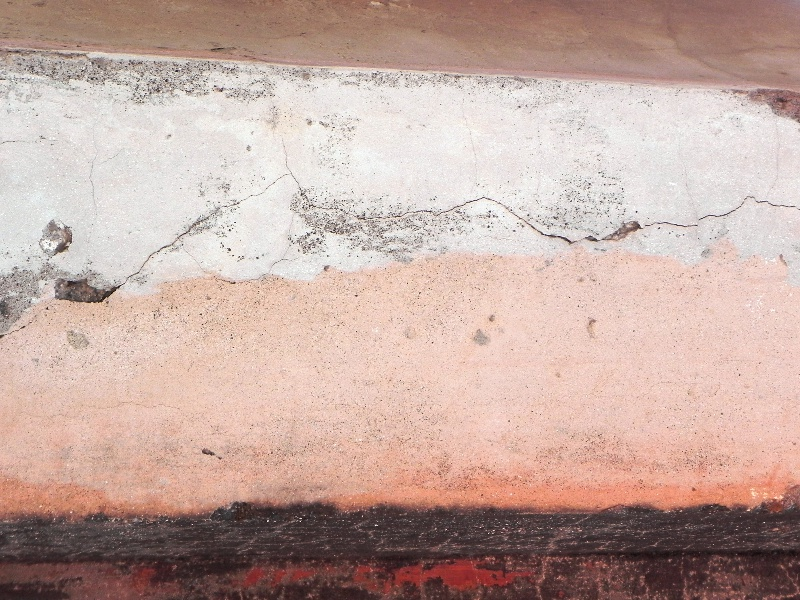Crack: (140, 171, 288, 272), (492, 198, 800, 246), (291, 176, 491, 220)
